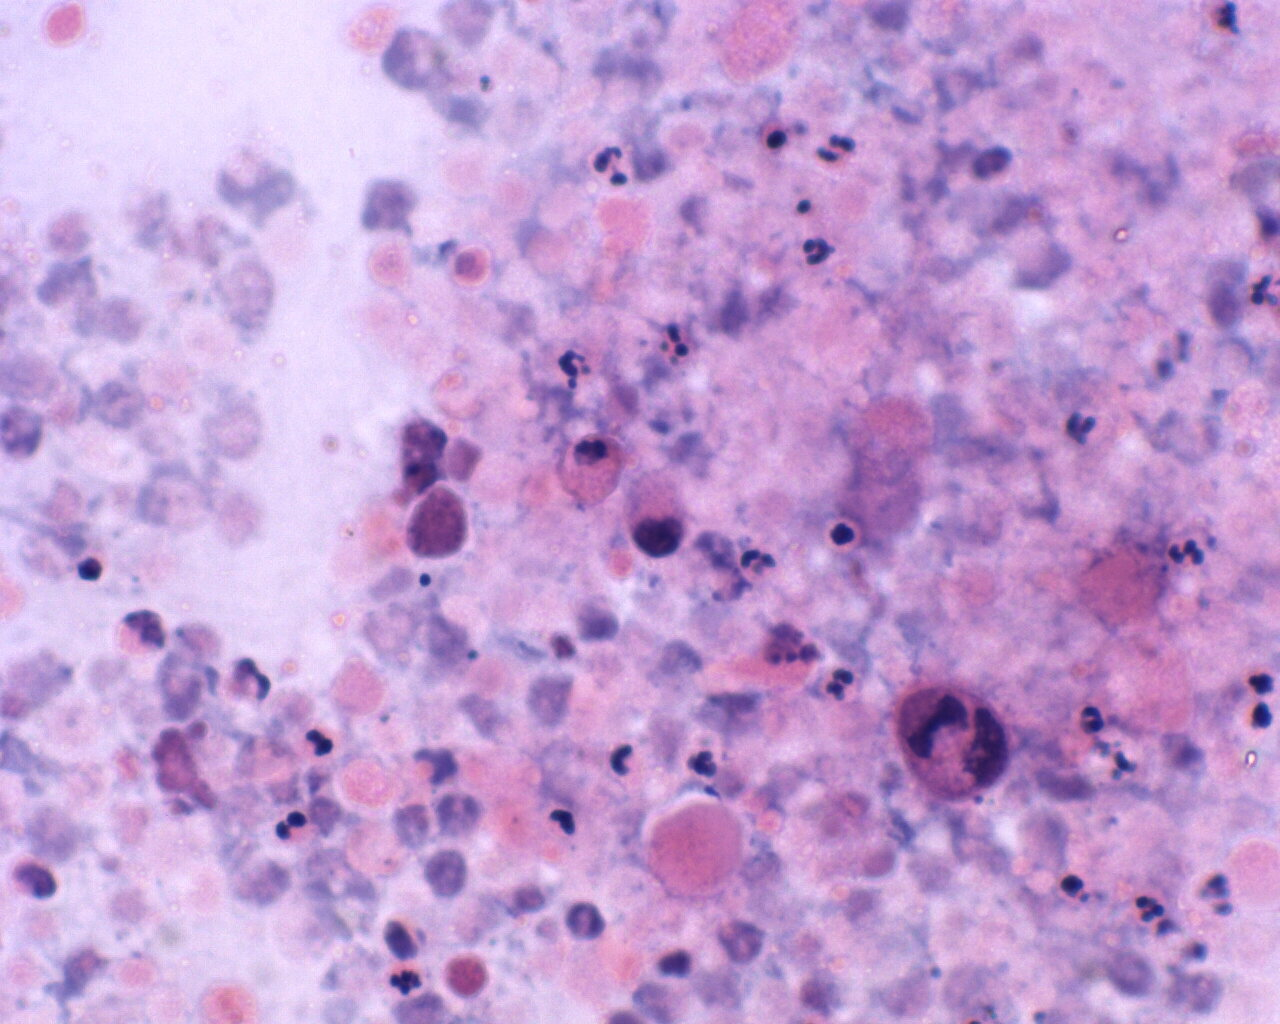ab: (900, 681, 1013, 809)
neutro: (380, 959, 427, 1000), (604, 730, 644, 778), (1165, 530, 1206, 574), (798, 229, 839, 269)
